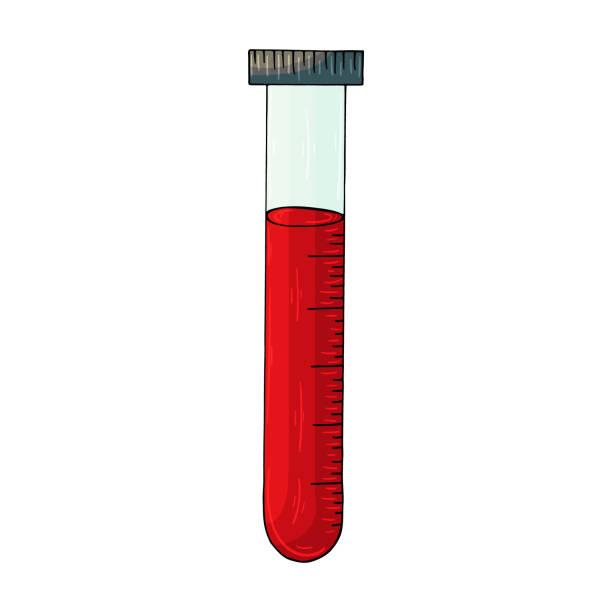Test tube: (231, 39, 383, 563)
